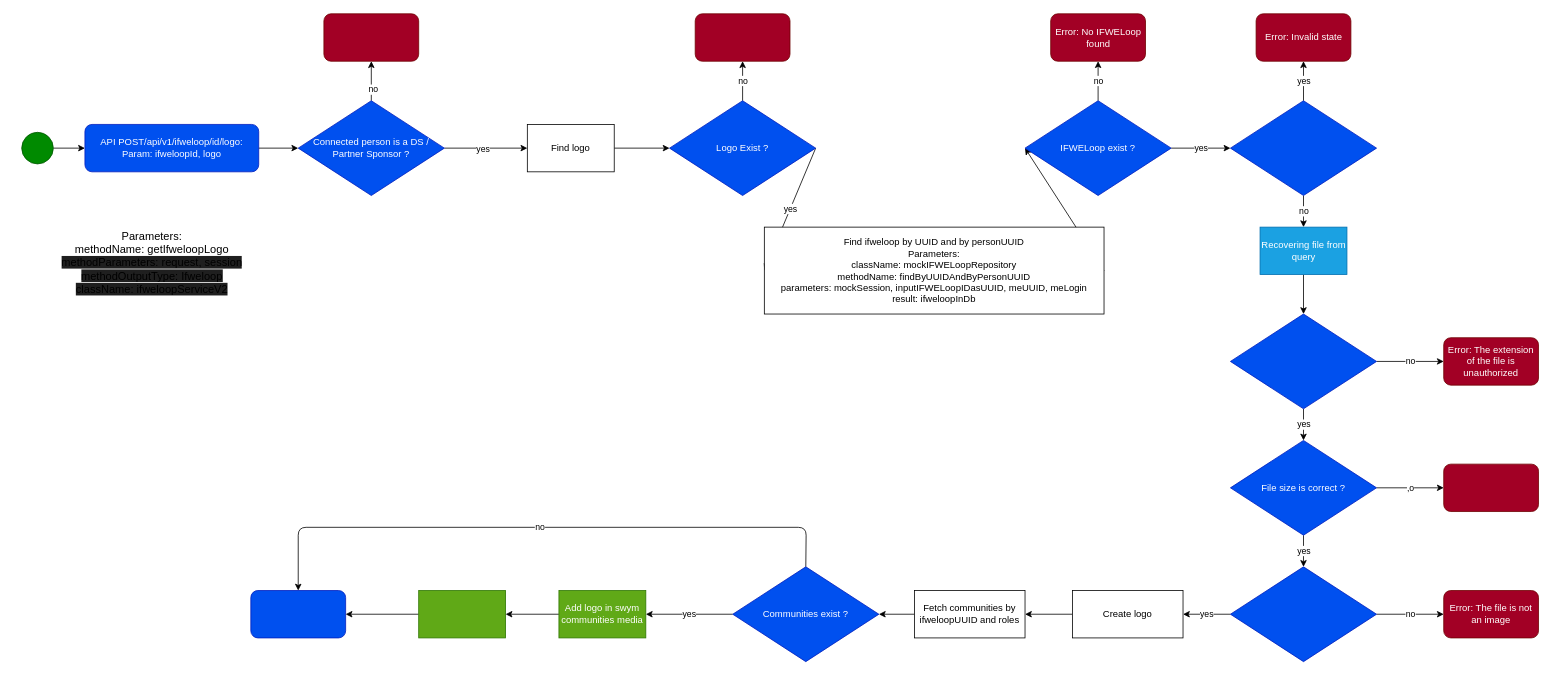
The diagram is 1552 pixels wide and 675 high, and some of its shapes have lost their labels. The centre of each missing label's shape, as x and y in pixels:
Edit swym communities: (462,614)
Error: Max size (2Mo) exceeded: (1491,487)
Error: The file for this ifweloop already exist: (742,37)
Error: You do not have the permission: (371,37)
File extension is correct ?: (1303,361)
File is an image ?: (1303,614)
IFWELoop is reuse && state !ready et !active ?: (1303,148)
Return Ifweloop DTO: (298,614)
